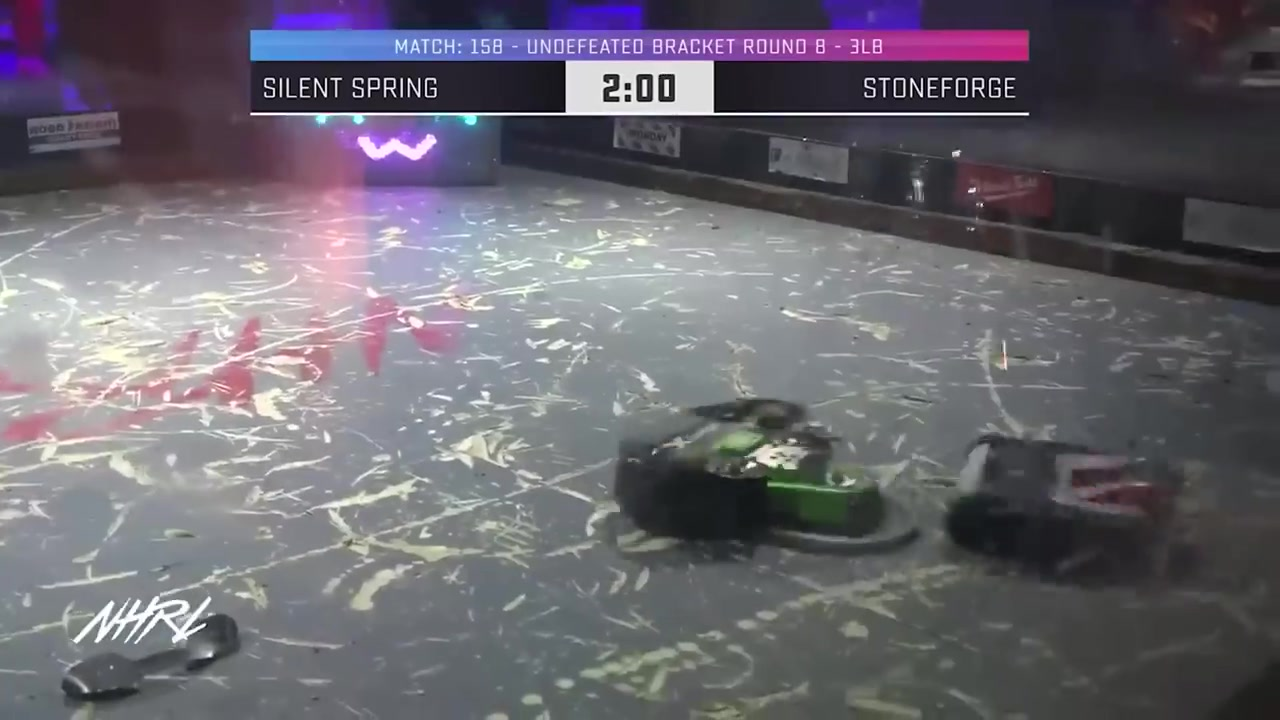combatbot: (618, 398, 906, 543), (945, 431, 1176, 561)
debris: (57, 616, 241, 700)
housebot: (275, 114, 501, 188)
